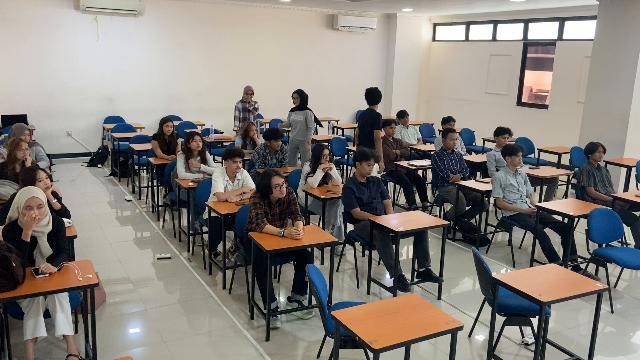fokus: (24, 201, 44, 221), (37, 172, 51, 192), (272, 178, 286, 198), (17, 145, 30, 162), (363, 160, 374, 177), (191, 135, 203, 150), (230, 157, 242, 172), (593, 148, 604, 163), (448, 134, 458, 150), (499, 133, 510, 146), (513, 152, 522, 167), (272, 139, 283, 150), (322, 148, 330, 163), (249, 125, 257, 139), (164, 122, 173, 134), (388, 123, 396, 136), (22, 132, 31, 142), (400, 115, 409, 125), (446, 122, 455, 130)
